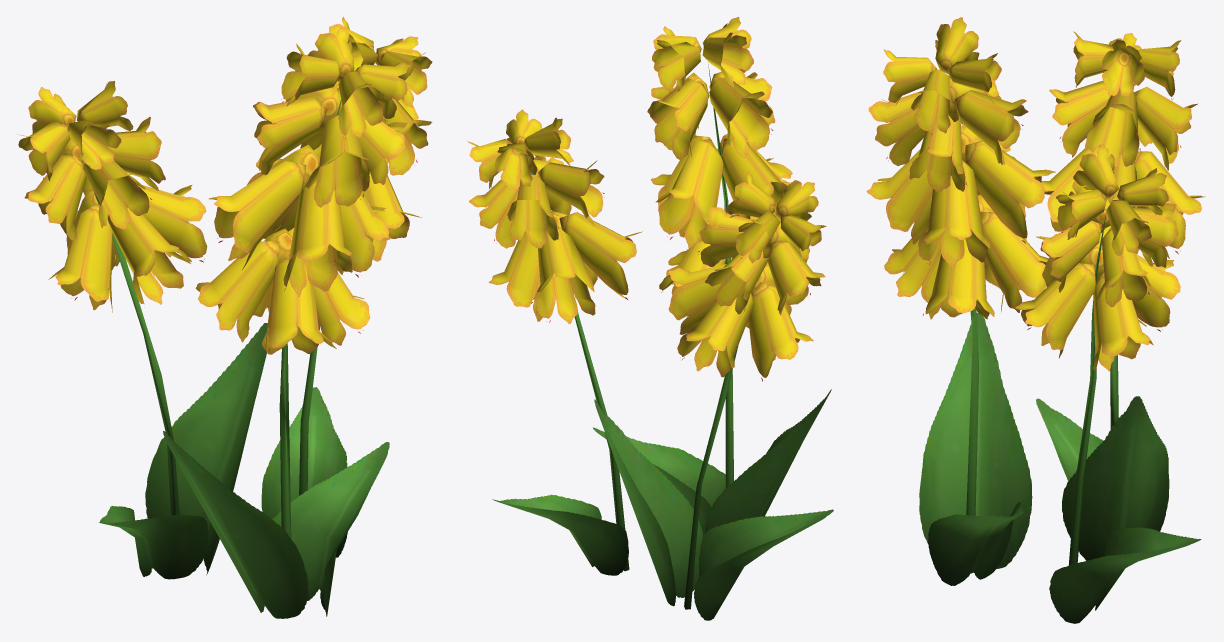
Rendered from Flower_4_Group.glb.
The picture shows the model from 3 angles, left to right: view 1: azimuth 30°, elevation 25°; view 2: azimuth 150°, elevation 25°; view 3: azimuth 270°, elevation 25°; orthographic projection. The views are drawn at different scales.
Visible parts, largest first — view 1: Flower_4_Group; view 2: Flower_4_Group; view 3: Flower_4_Group.
Part boxes in pixels (left/top/right/bottom): Flower_4_Group: left=17, top=17, right=432, bottom=618; Flower_4_Group: left=467, top=17, right=833, bottom=620; Flower_4_Group: left=866, top=17, right=1205, bottom=623.
Bounding box in the file's own units: 1.78 × 2.49 × 1.37.
2 materials, 2 textured.
